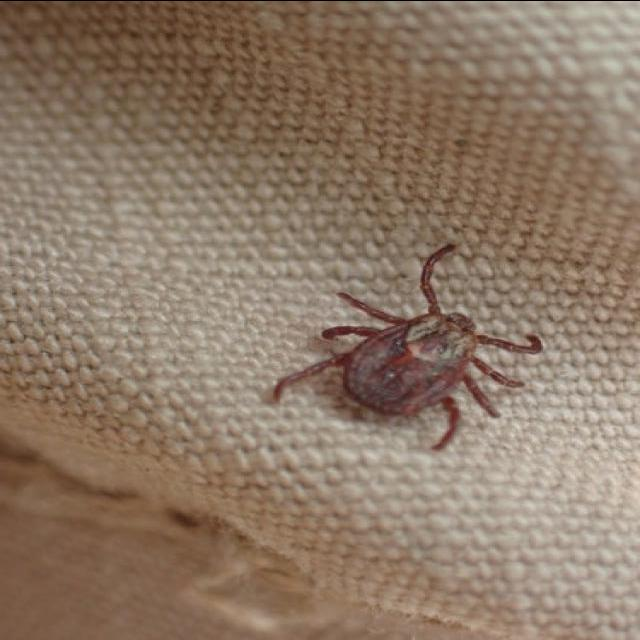Dermacentor Reticulatus-F: (271, 242, 543, 451)
